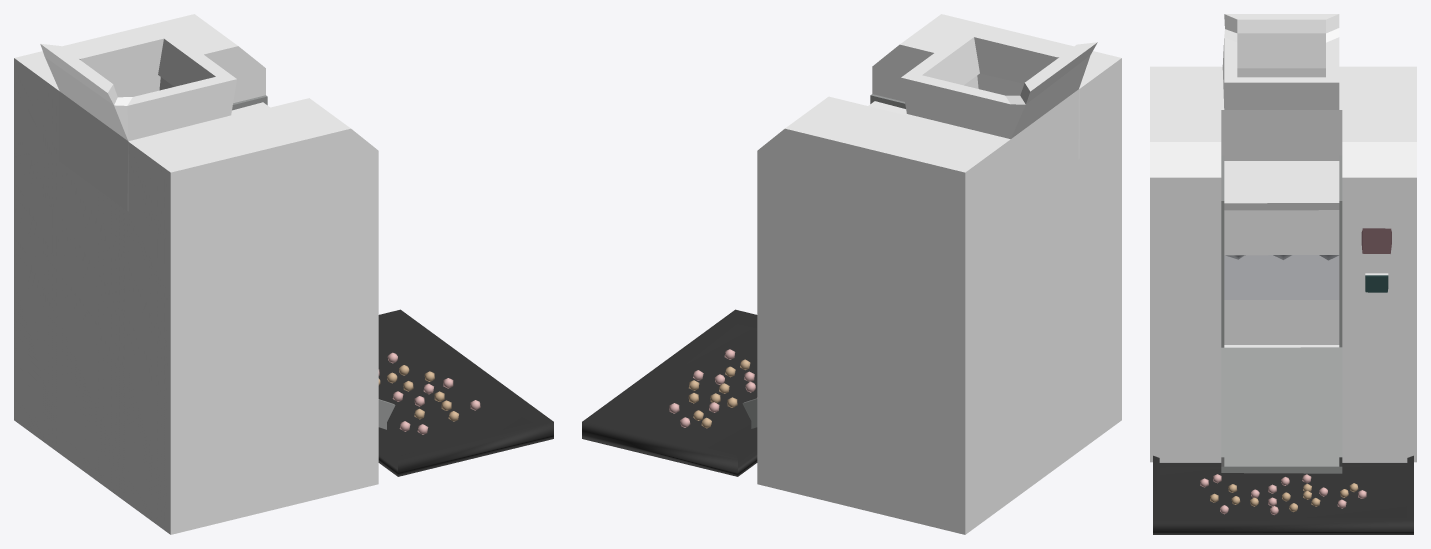
Rendered from raw-processor-machine-without-pearls.glb.
3 renders of one model, left to right at view 1: azimuth 30°, elevation 25°; view 2: azimuth 150°, elevation 25°; view 3: azimuth 270°, elevation 25°, orthographic. The views are drawn at different scales.
Parts seen in each view (by area): view 1: raw process mahine, catch tray, multiple pearls; view 2: raw process mahine, catch tray, multiple pearls; view 3: raw process mahine, catch tray, multiple pearls.
Boxes of the visible parts, bbox=[...] form: raw process mahine: bbox=[14, 14, 395, 534]; catch tray: bbox=[378, 309, 553, 476]; multiple pearls: bbox=[378, 352, 480, 434]; raw process mahine: bbox=[742, 14, 1121, 534]; catch tray: bbox=[582, 309, 757, 476]; multiple pearls: bbox=[669, 349, 757, 428]; raw process mahine: bbox=[1150, 14, 1416, 473]; catch tray: bbox=[1153, 455, 1413, 534]; multiple pearls: bbox=[1200, 474, 1366, 514].
Bounding box in the file's own units: 3.76 × 3.69 × 2.52.
